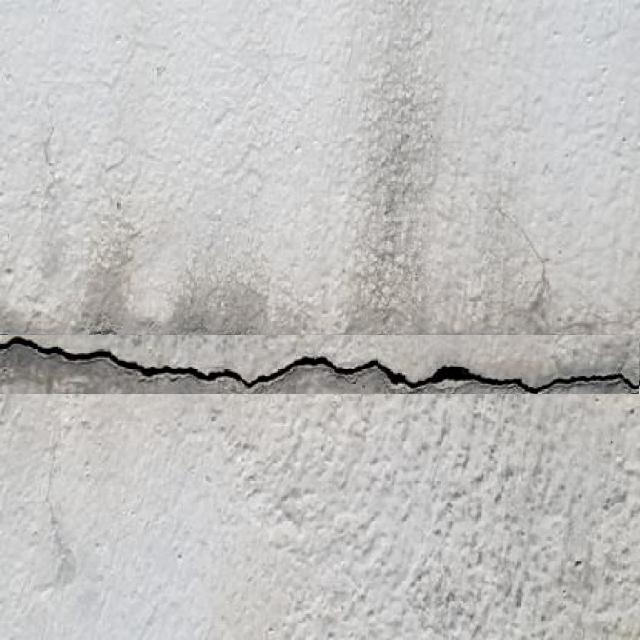horizontal crack: (0, 335, 639, 394)
